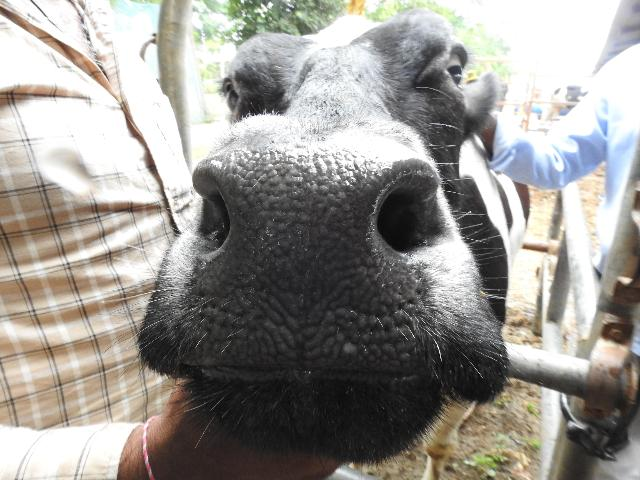Muzzle: (226, 150, 378, 382)
